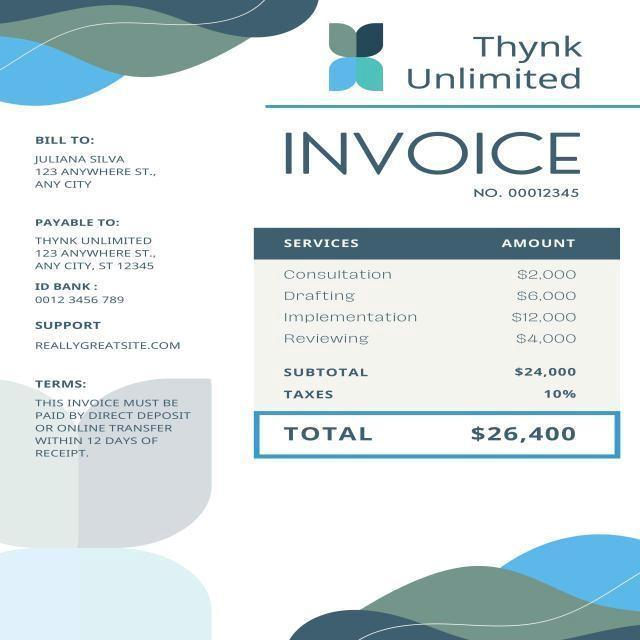paragraph: (278, 121, 588, 206), (27, 212, 194, 355), (27, 374, 201, 465), (396, 22, 598, 95), (280, 361, 583, 406), (275, 412, 584, 455), (28, 128, 161, 193)
table: (273, 221, 601, 352)
